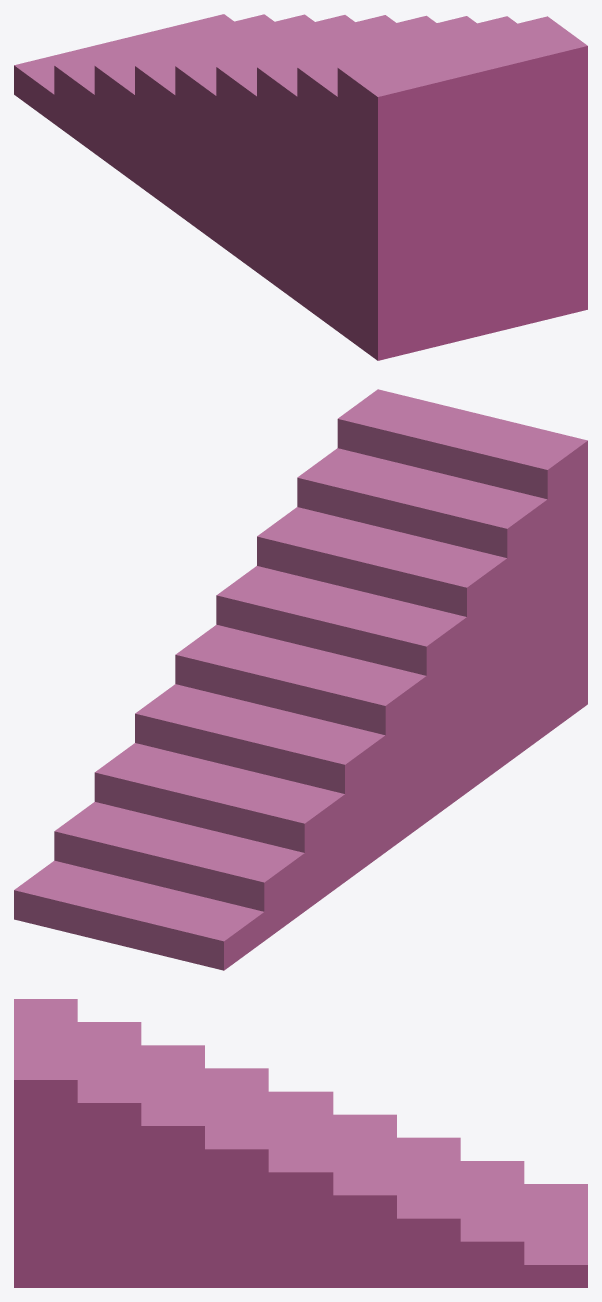
The model's file is squidgame_props_platform_stair3.fbx.
3 views of the same model, one above another, from view 1: azimuth 30°, elevation 25°; view 2: azimuth 150°, elevation 25°; view 3: azimuth 270°, elevation 25° (orthographic). The views are drawn at different scales.
Visible parts, largest first — view 1: squidgame_props_platform_stair3; view 2: squidgame_props_platform_stair3; view 3: squidgame_props_platform_stair3.
Part boxes in pixels (<box>): squidgame_props_platform_stair3: <box>14,14,587,360</box>; squidgame_props_platform_stair3: <box>14,389,587,970</box>; squidgame_props_platform_stair3: <box>14,999,587,1287</box>.
Bounding box in the file's own units: 1.5 × 1.8 × 4.5.
